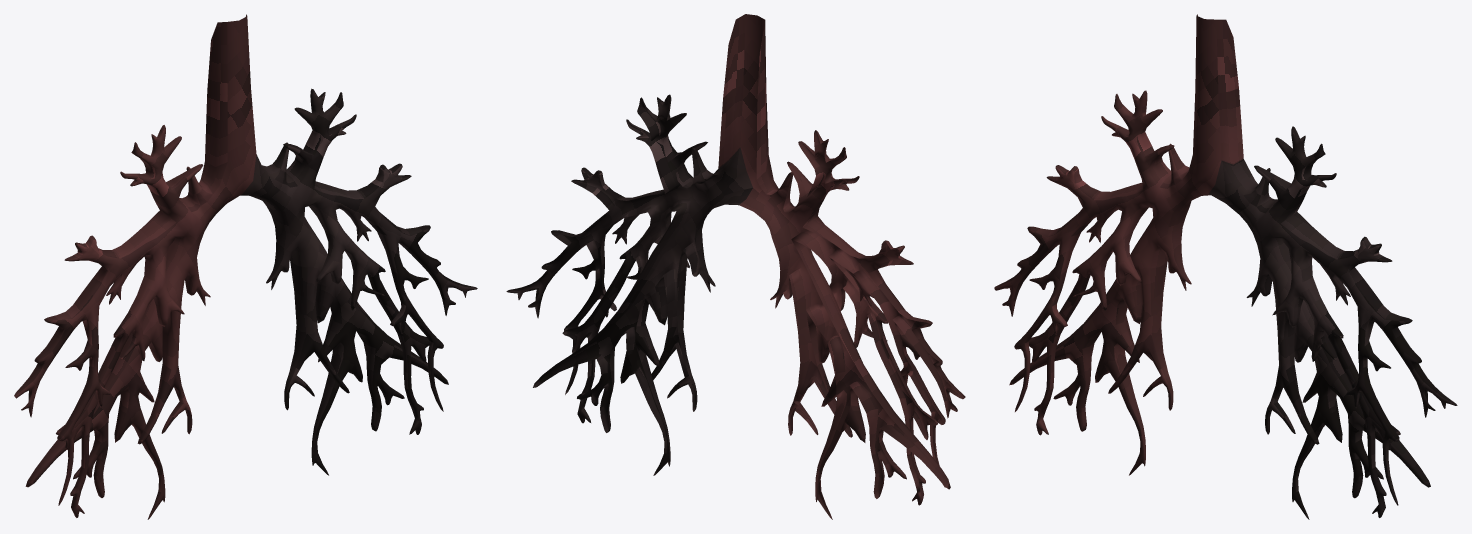
The model's file is Lung Background.fbx.
The picture shows the model from 3 angles, left to right: view 1: azimuth 30°, elevation 25°; view 2: azimuth 150°, elevation 25°; view 3: azimuth 330°, elevation 25°; orthographic projection.
Parts seen in each view (by area): view 1: Cube.008; view 2: Cube.008; view 3: Cube.008.
Part boxes in pixels (left/top/right/bottom): Cube.008: left=14, top=14, right=477, bottom=519; Cube.008: left=506, top=14, right=965, bottom=519; Cube.008: left=994, top=14, right=1457, bottom=519.
Size of the model in its own units: 2200 by 204 by 2198.
2 materials, 2 textured.
